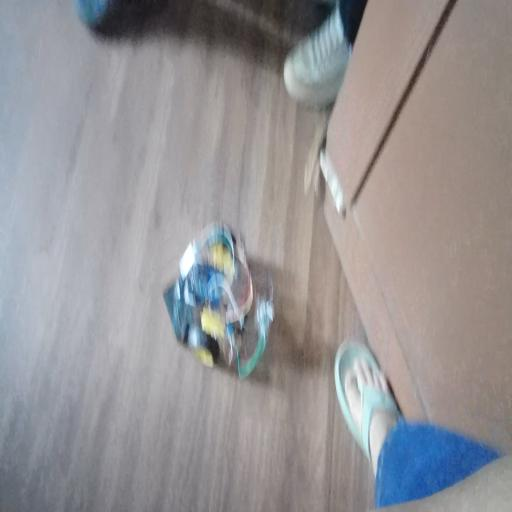car: (177, 200, 290, 409)
